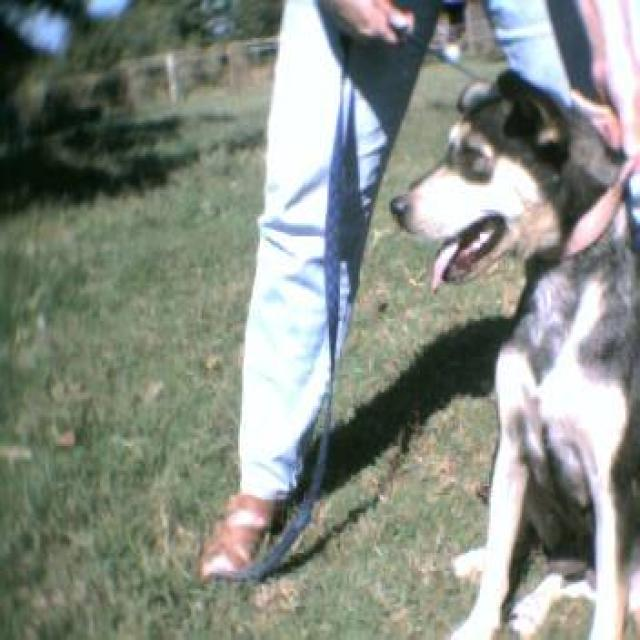dog: (389, 67, 638, 638)
